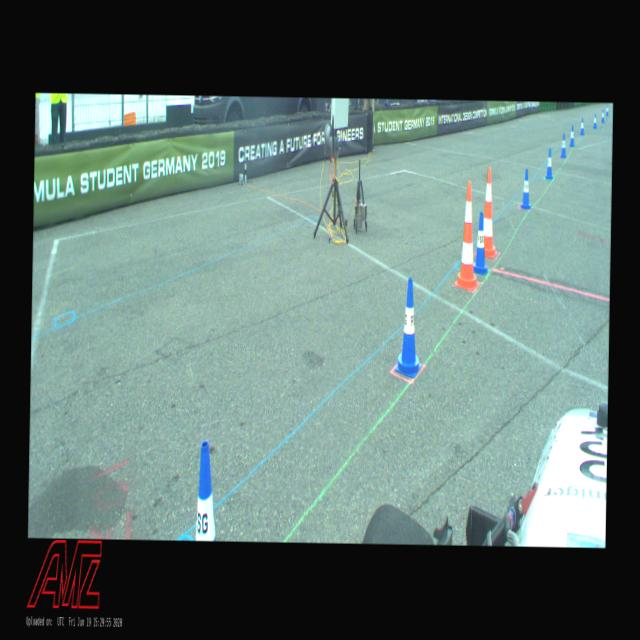blue_cone: (394, 277, 423, 378), (195, 440, 217, 540), (473, 212, 488, 273), (520, 168, 531, 208), (546, 148, 554, 179), (560, 132, 566, 156), (569, 125, 575, 146), (580, 117, 584, 135), (592, 112, 596, 128), (601, 109, 604, 122)
large_orange_cone: (454, 182, 480, 290), (482, 166, 498, 257)
